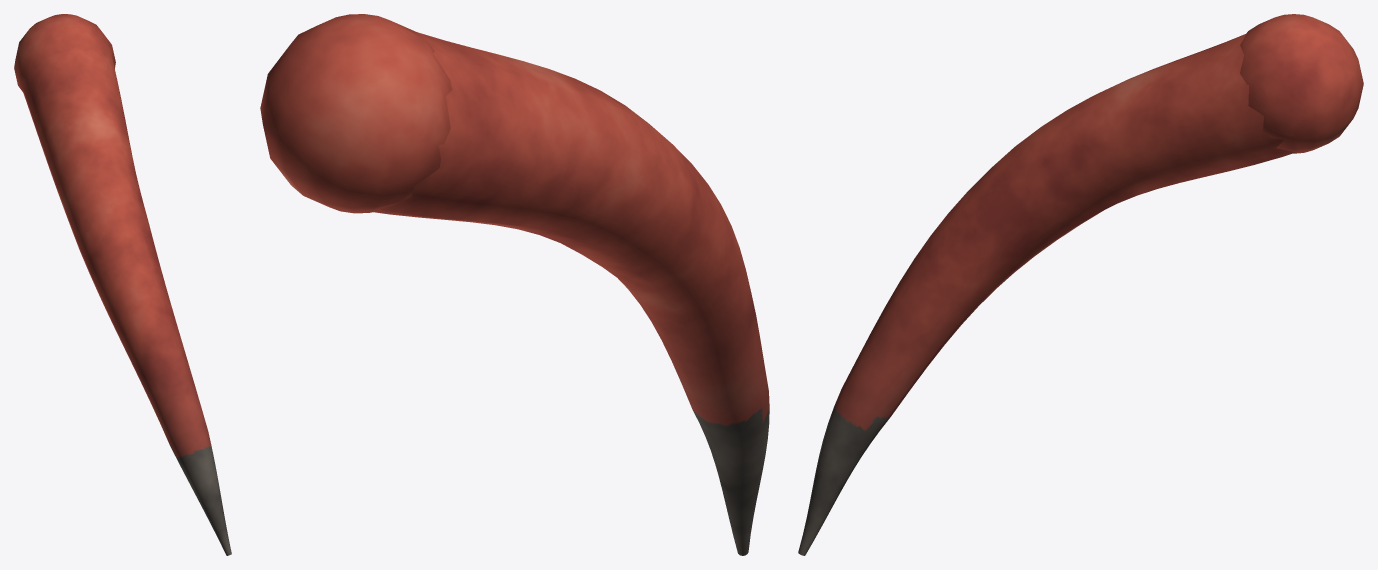
The model's file is headcrab_garra_del_der.obj.
3 views of the same model, side by side, from view 1: azimuth 30°, elevation 25°; view 2: azimuth 150°, elevation 25°; view 3: azimuth 270°, elevation 25° (orthographic). The views are drawn at different scales.
Visible parts, largest first — view 1: garra_del_der; view 2: garra_del_der; view 3: garra_del_der.
Part boxes in pixels (box(x1,y1,x2,y2)): garra_del_der: box(14, 14, 231, 555); garra_del_der: box(260, 14, 769, 555); garra_del_der: box(798, 14, 1363, 555).
Size of the model in its own units: 0.0718 by 0.2326 by 0.2184.
